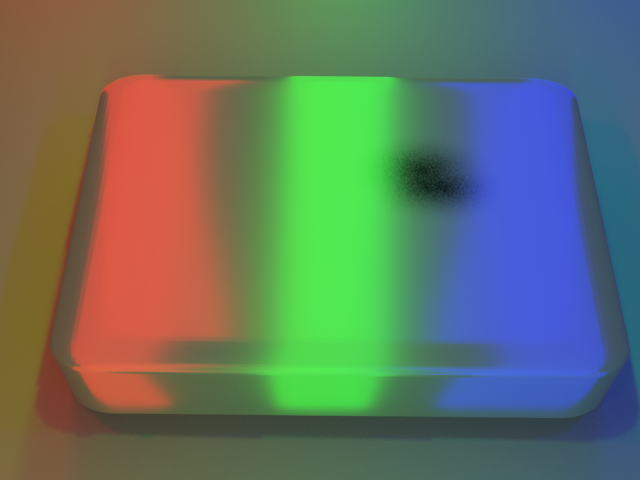stain: (329, 113, 542, 229)
